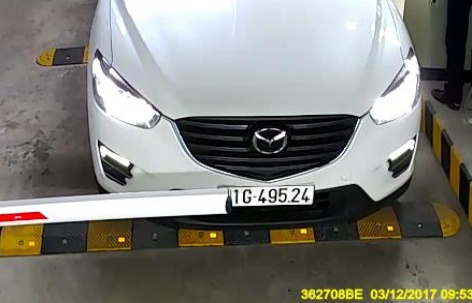plate: (218, 171, 318, 210)
